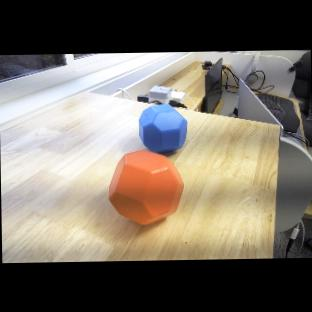V5_BLUE: (137, 102, 188, 151)
V5_RED: (108, 149, 185, 226)
